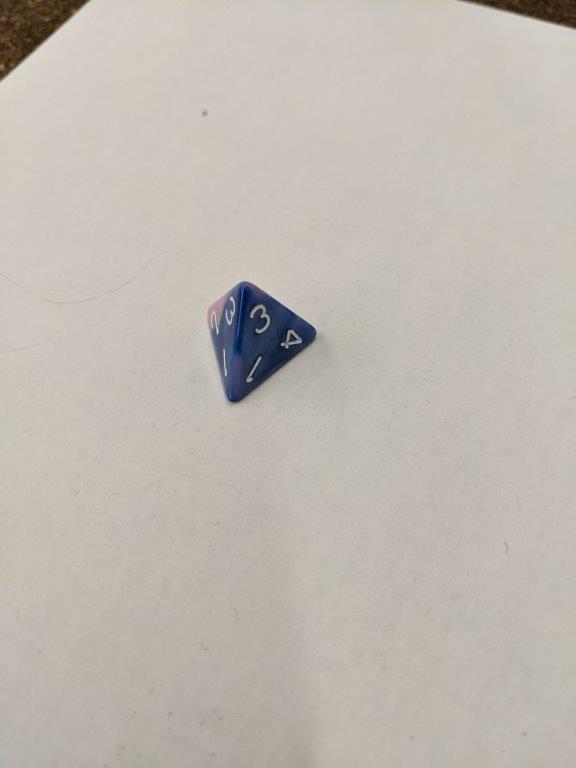d4-3: (205, 278, 319, 406)
